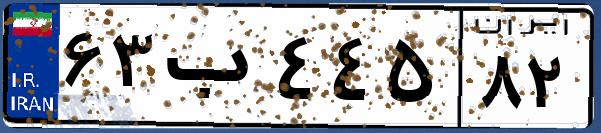2: (525, 38, 570, 115)
3: (110, 28, 158, 98)
4: (270, 28, 330, 110), (330, 28, 385, 110)
5: (385, 28, 445, 110)
6: (57, 26, 110, 100)
8: (475, 38, 525, 113)
ب: (158, 20, 270, 120)
